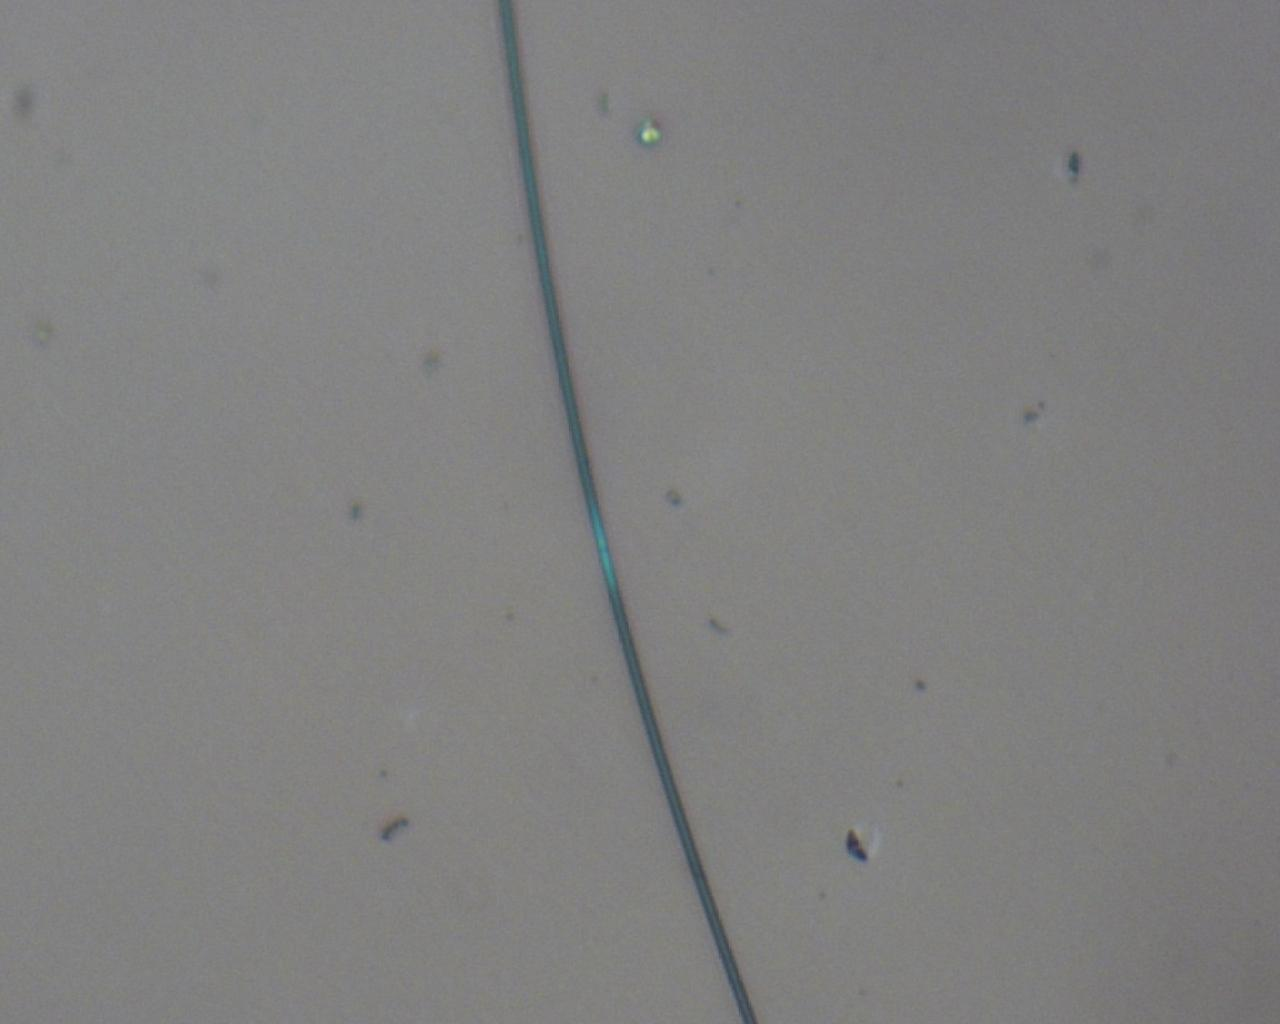fiber: (0, 481, 256, 1024), (0, 178, 439, 481), (797, 481, 994, 1024), (524, 0, 566, 481)
